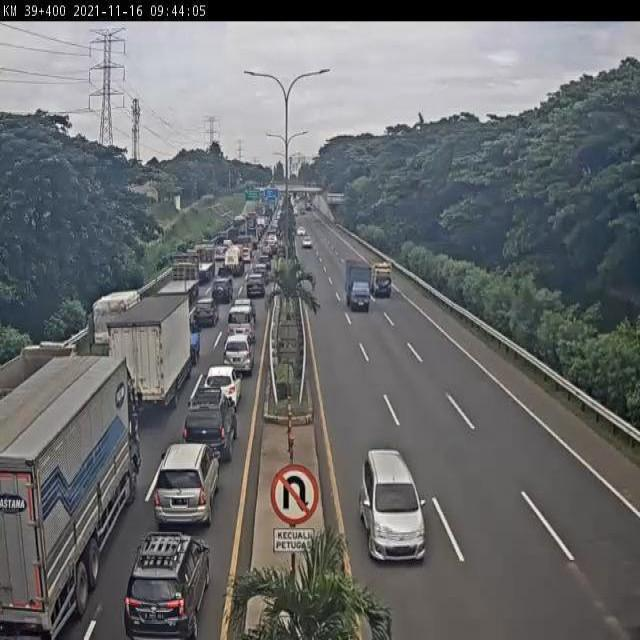car: (126, 527, 213, 637), (358, 445, 430, 571), (146, 437, 223, 520), (182, 384, 245, 451), (219, 335, 259, 371), (201, 361, 239, 396), (225, 303, 255, 340), (242, 272, 267, 305), (193, 295, 217, 329), (208, 276, 236, 303), (301, 236, 314, 251)
truck: (1, 353, 146, 640), (111, 295, 205, 409), (88, 280, 141, 353), (158, 259, 196, 307), (345, 260, 372, 315), (368, 254, 396, 302), (195, 244, 216, 279)
